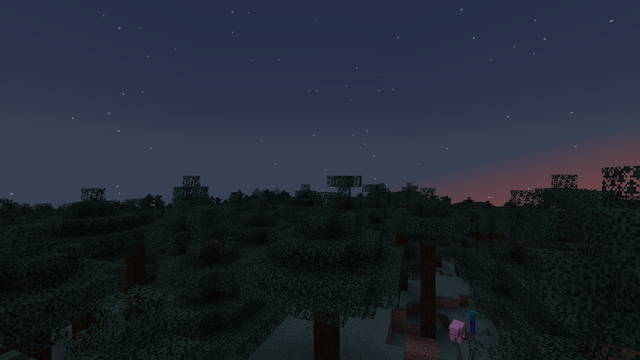cochons: (448, 318, 467, 344)
zombies: (466, 298, 478, 335)
